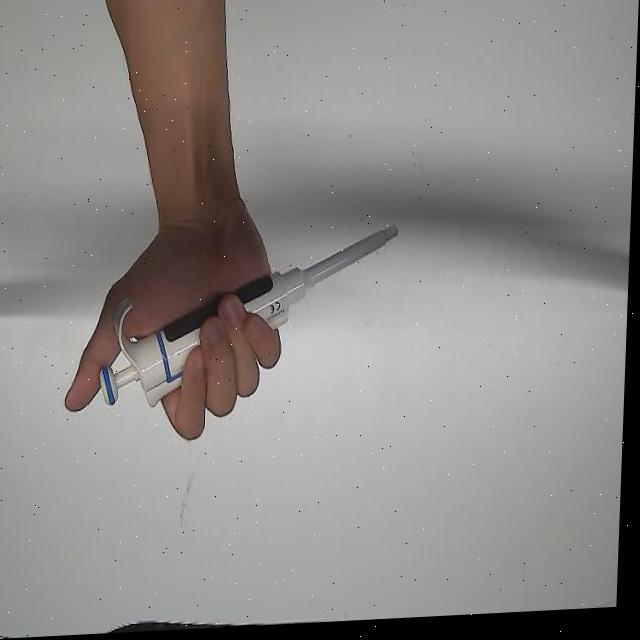Single Channel Pipettor: (100, 227, 406, 414)
